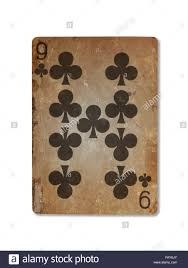nine of clubs: (33, 38, 160, 215)
